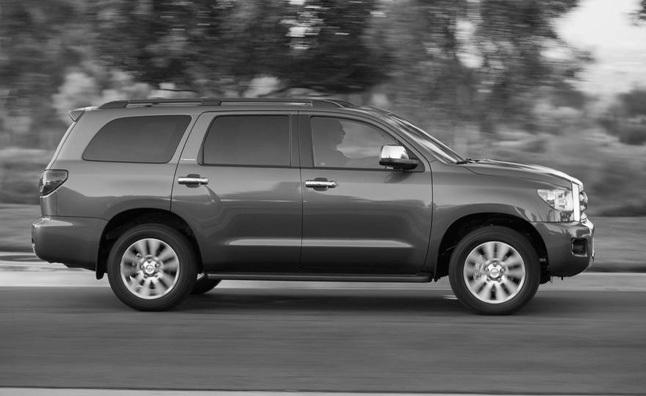car: (31, 96, 600, 313)
